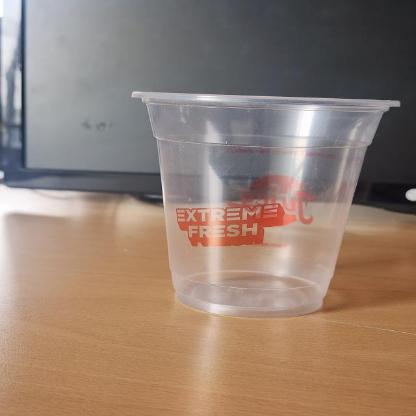Plastic Cup: (129, 88, 403, 320)
